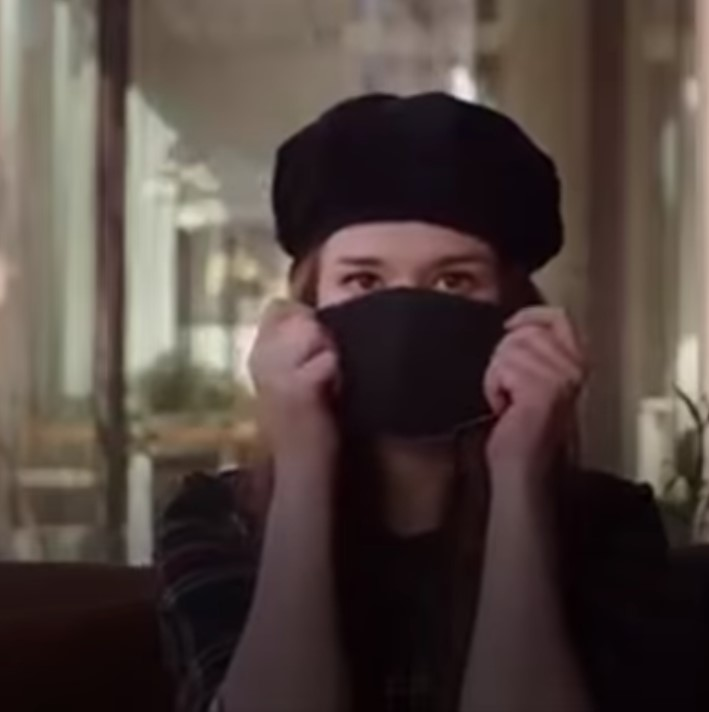face_with_mask: (277, 99, 563, 448)
